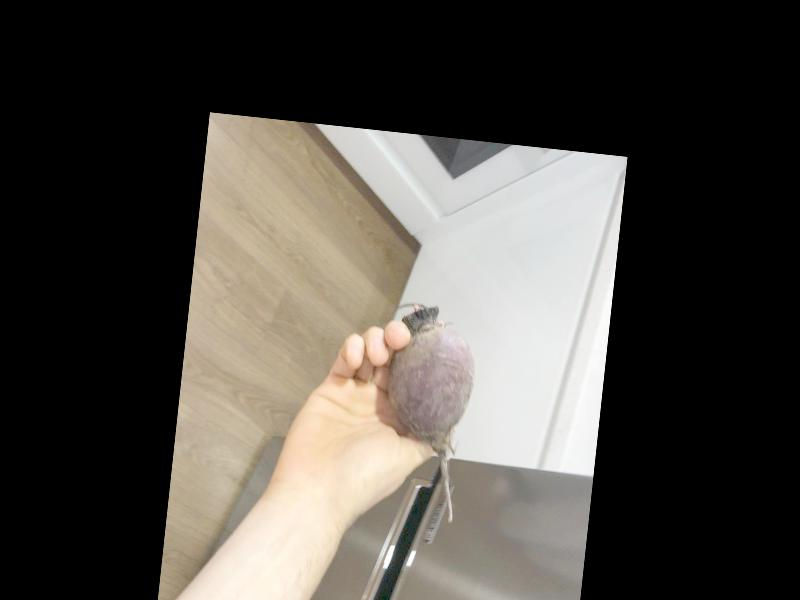Beet: (374, 300, 481, 522)
